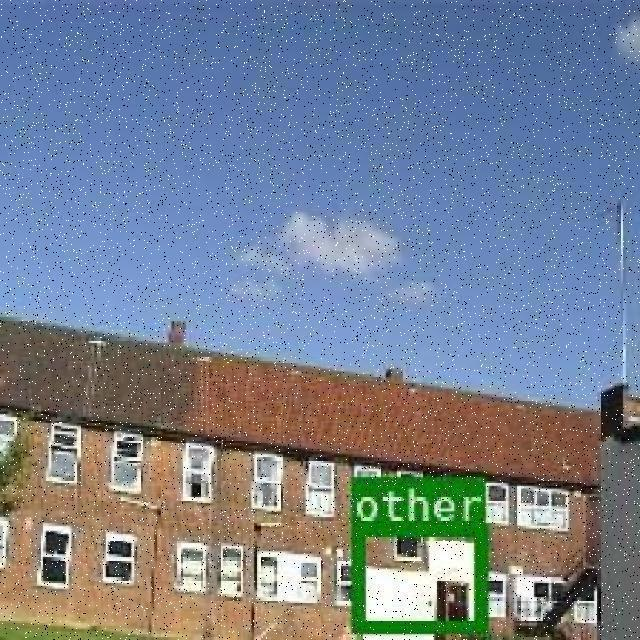Smoke: (349, 520, 483, 628)
